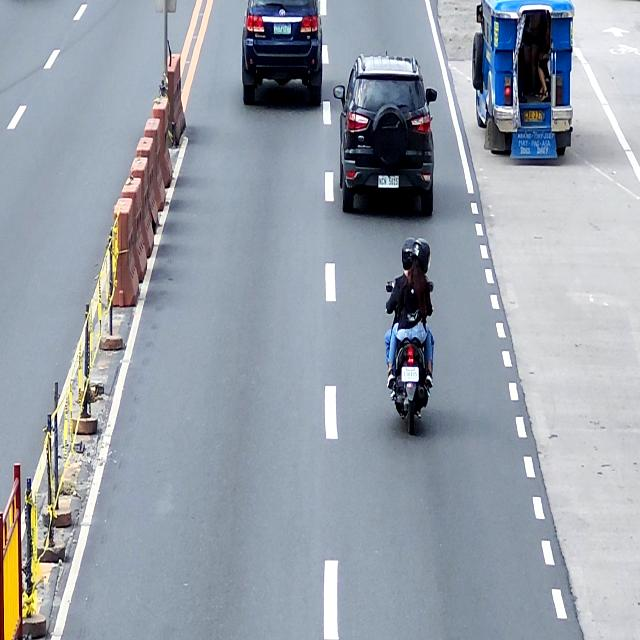Car: (333, 52, 437, 216), (472, 0, 574, 159), (241, 0, 323, 106)
License-Plate: (523, 108, 544, 126), (378, 172, 398, 190), (401, 365, 419, 383), (274, 21, 292, 36)
Motorcycle: (384, 280, 434, 436)
